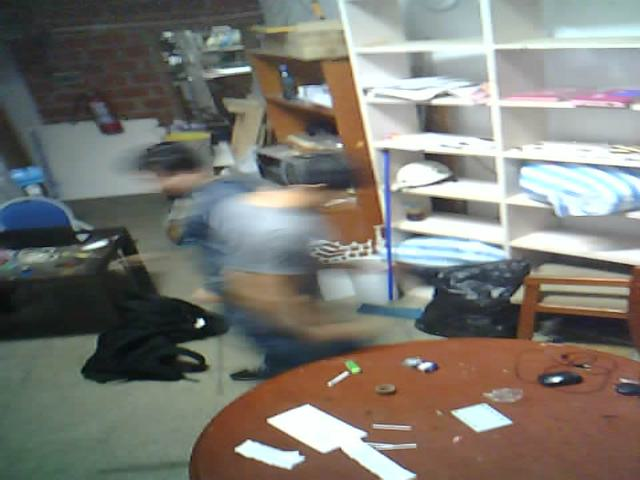person: (210, 144, 398, 400), (126, 124, 268, 385)
